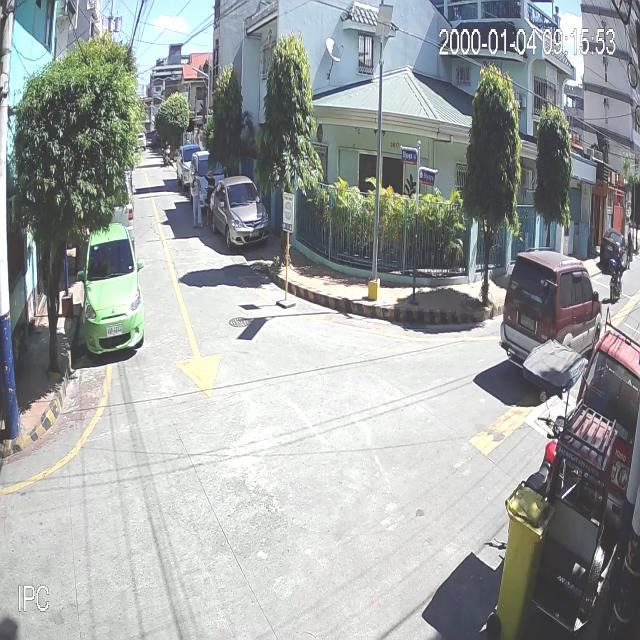standing: (192, 170, 202, 230), (205, 169, 215, 228)
